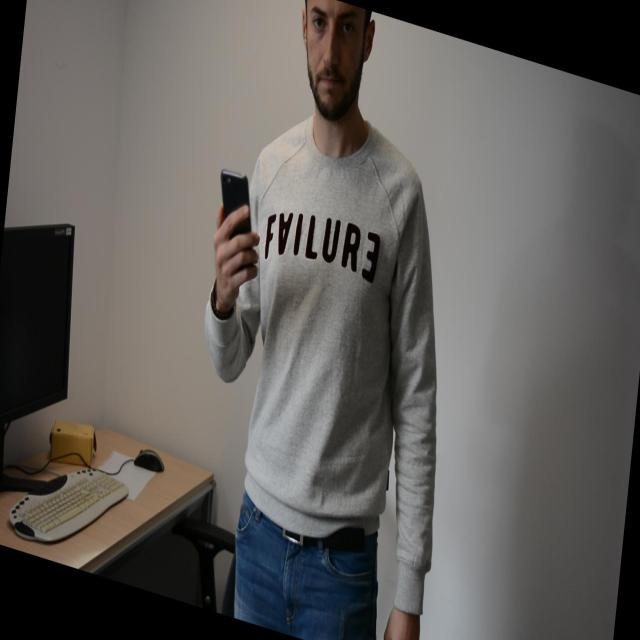phone: (220, 168, 253, 260)
